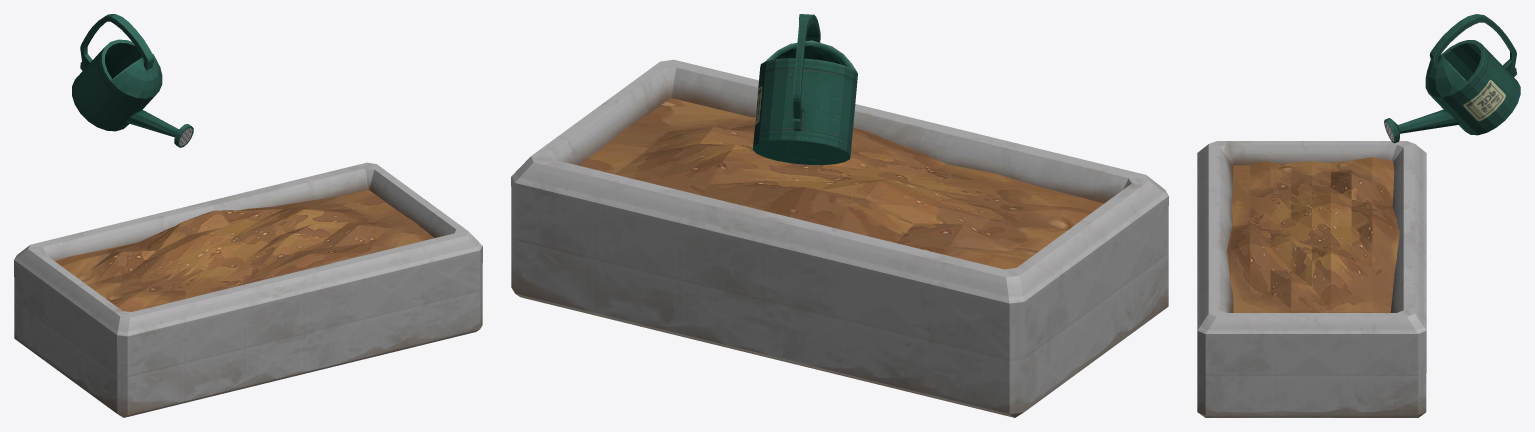
File: P_Decoration_00192.obj
The picture shows the model from 3 angles, left to right: view 1: azimuth 30°, elevation 25°; view 2: azimuth 150°, elevation 25°; view 3: azimuth 270°, elevation 25°; orthographic projection. The views are drawn at different scales.
Size of the model in its own units: 1.9 by 1.37 by 1.4.
Materials: 3 (3 with a texture image).
